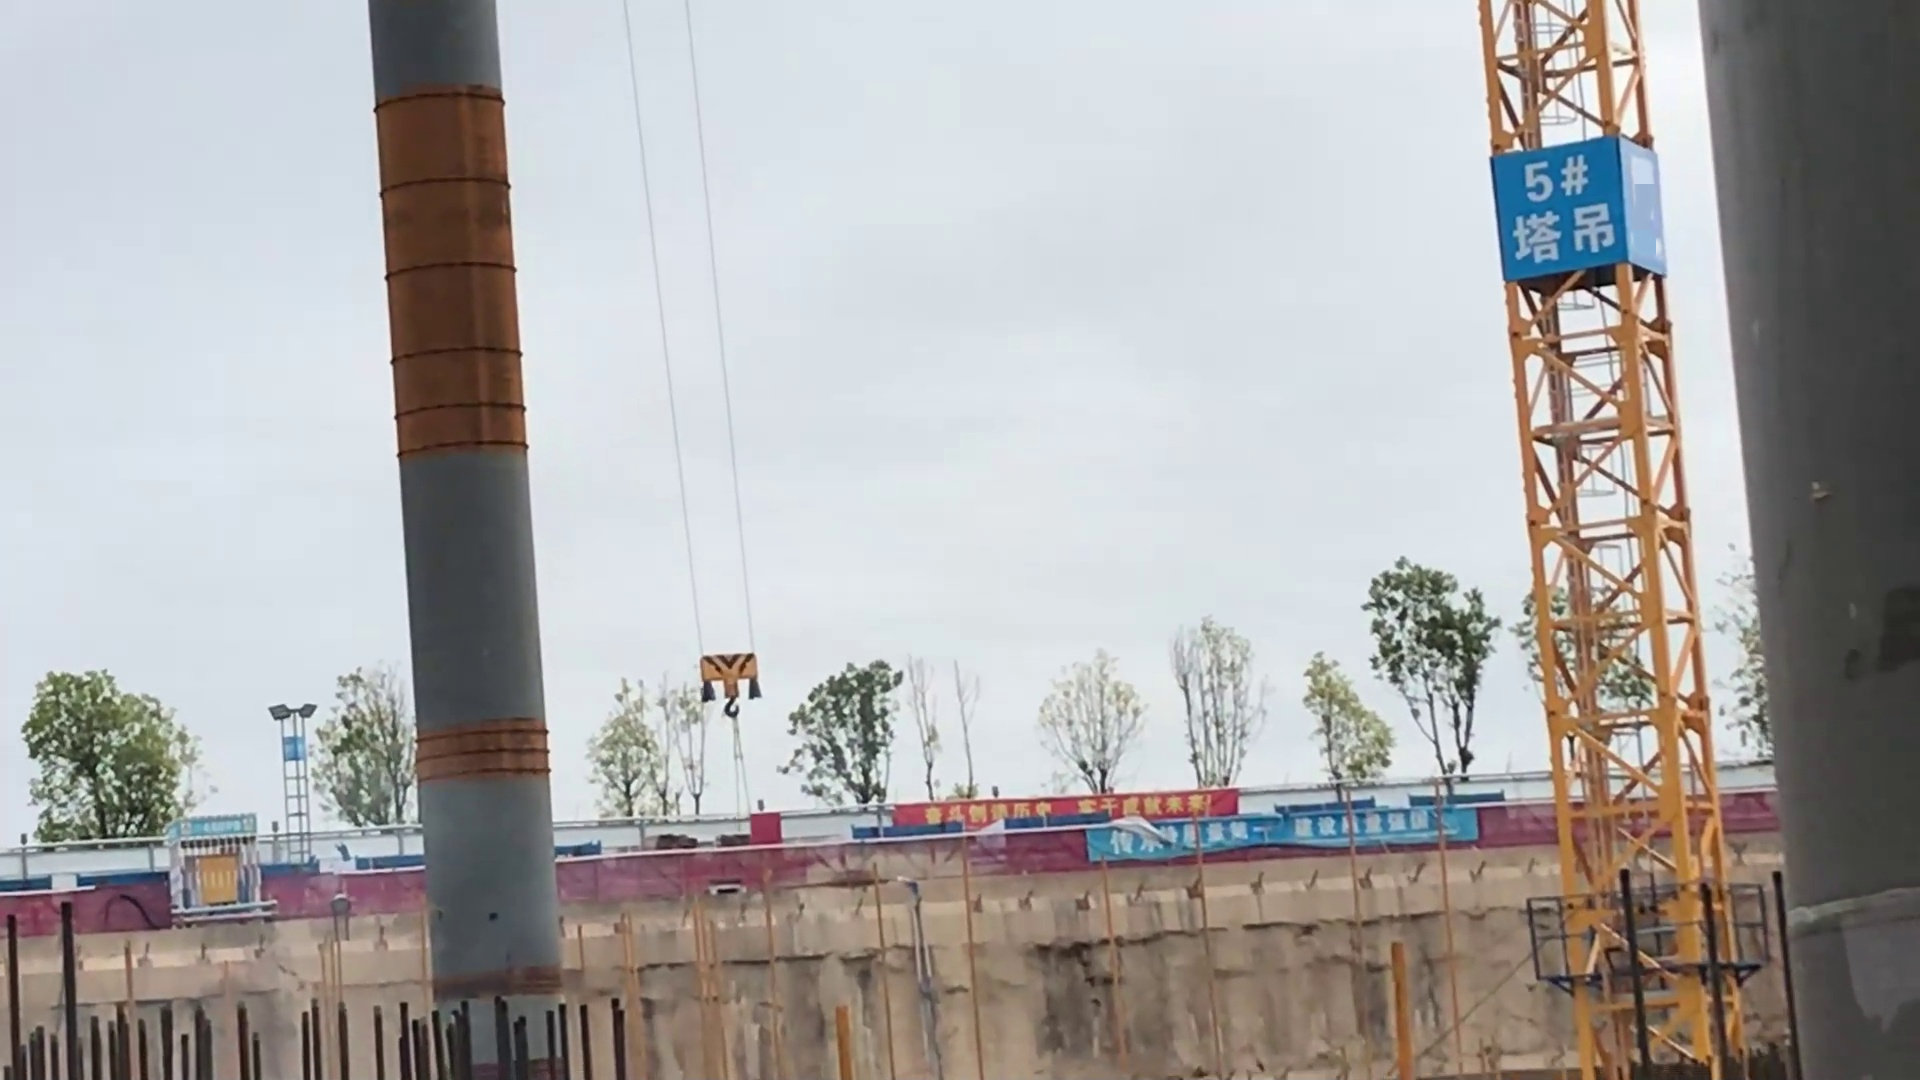ebox: (185, 853, 240, 905)
hook: (694, 647, 766, 721)
slogan: (1087, 804, 1477, 861), (893, 789, 1237, 833)
